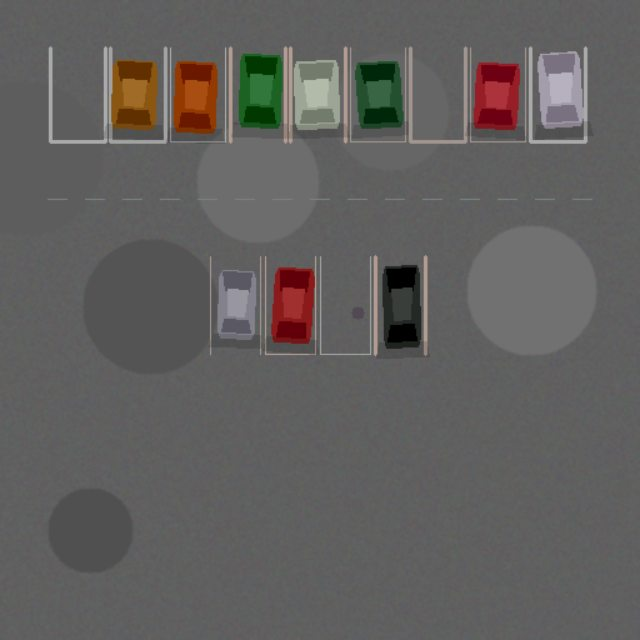space-empty: (50, 48, 105, 141), (410, 48, 465, 141), (320, 256, 370, 354)
space-occupied: (110, 48, 165, 141), (170, 48, 225, 141), (230, 48, 285, 141), (290, 48, 345, 141), (350, 48, 405, 141), (470, 48, 525, 141), (530, 48, 585, 141), (210, 256, 260, 354), (265, 256, 315, 354), (375, 256, 425, 354)
